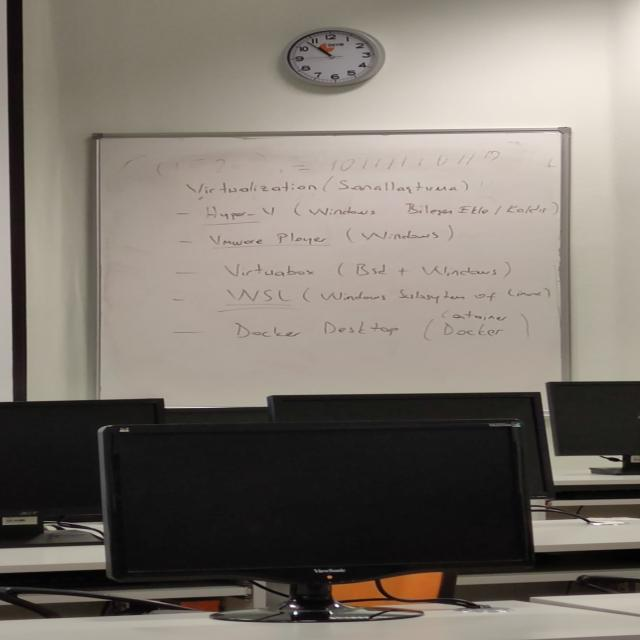text: (227, 311, 532, 343), (185, 201, 559, 225), (217, 286, 560, 306), (180, 176, 471, 198), (220, 261, 510, 282), (211, 227, 454, 248)
